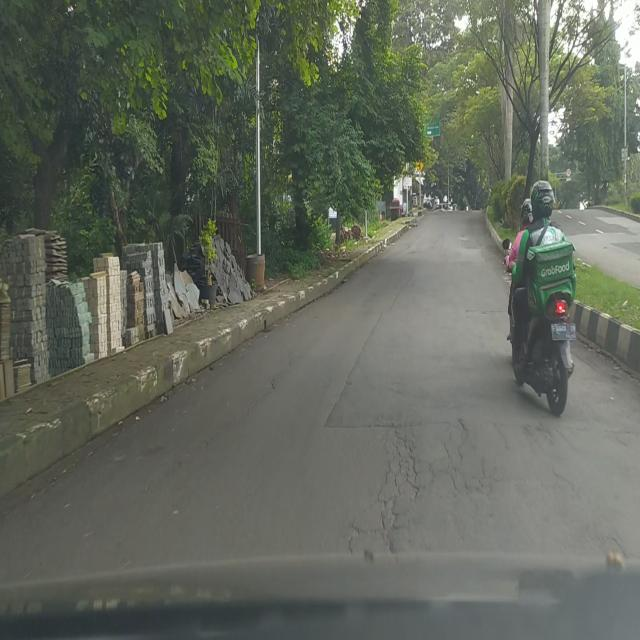Drain Hole: (338, 422, 518, 554)
